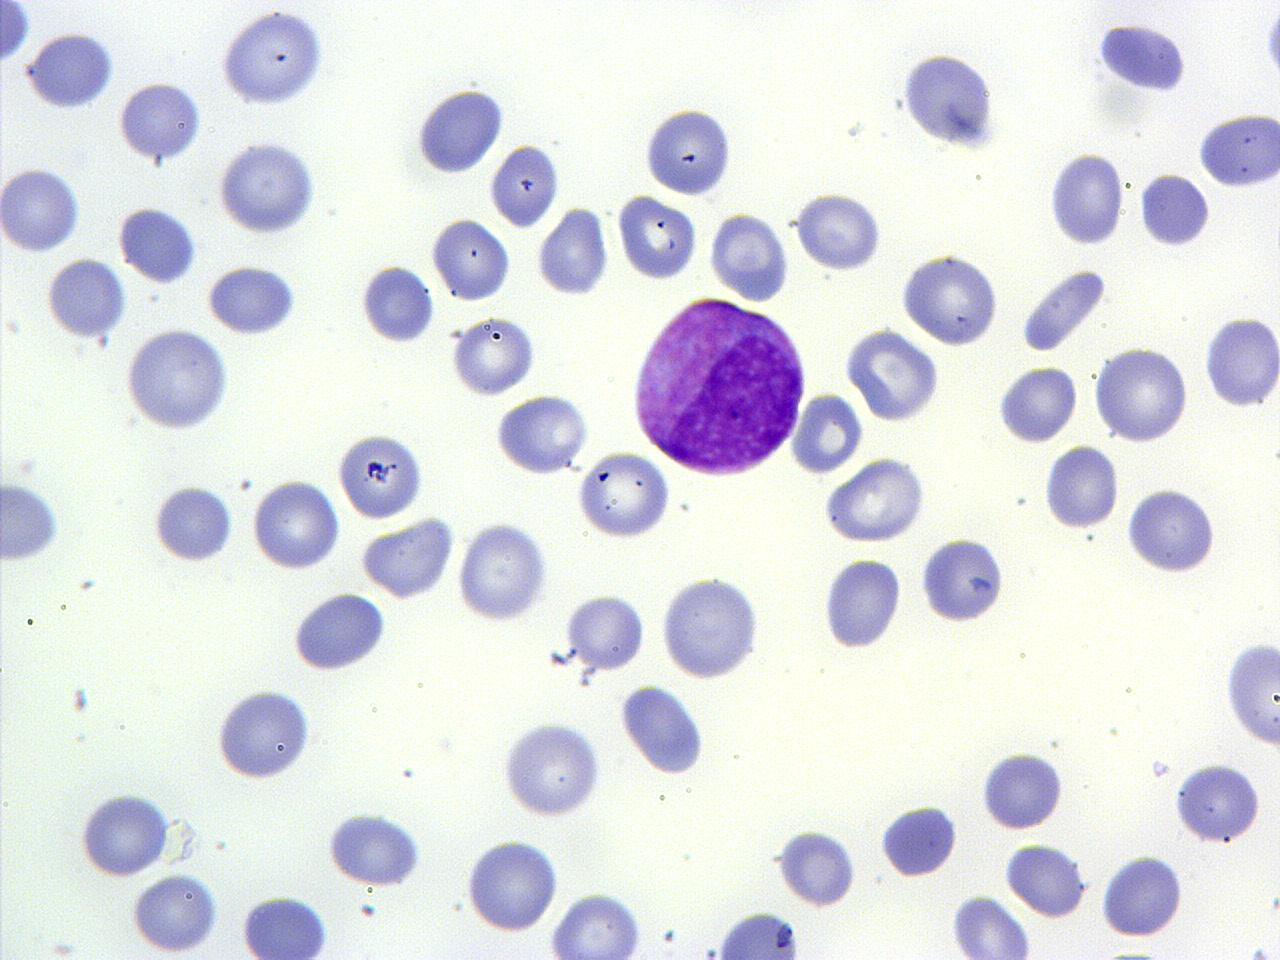Platelets: (1044, 149, 1126, 248), (1091, 18, 1191, 94), (993, 362, 1081, 446), (772, 826, 860, 910), (355, 260, 436, 348), (948, 892, 1034, 960), (0, 0, 30, 70), (1263, 3, 1280, 87), (1149, 758, 1171, 780), (1248, 943, 1274, 960), (703, 945, 718, 959)
RBC: (122, 323, 232, 436), (218, 7, 328, 110), (498, 716, 606, 820), (216, 135, 320, 239), (454, 518, 552, 626), (212, 682, 315, 784), (898, 248, 1001, 350), (1089, 345, 1191, 445), (820, 454, 930, 546), (463, 834, 560, 936), (1123, 480, 1219, 580), (77, 786, 172, 882), (574, 448, 671, 542), (249, 476, 342, 572), (492, 390, 591, 479), (818, 552, 904, 654), (336, 427, 429, 521), (24, 24, 119, 114), (322, 810, 428, 890), (706, 208, 792, 304), (128, 869, 222, 956), (1170, 760, 1266, 845), (790, 188, 886, 272), (446, 314, 539, 400), (1046, 150, 1126, 248), (978, 746, 1068, 833), (1200, 313, 1280, 410), (0, 162, 82, 256), (613, 191, 697, 282), (994, 360, 1080, 446), (536, 202, 610, 300), (772, 826, 858, 910), (1039, 442, 1119, 532), (430, 216, 511, 304), (564, 588, 648, 672), (1002, 839, 1090, 919), (1222, 632, 1280, 753), (790, 388, 864, 477), (546, 891, 644, 958), (238, 890, 331, 960), (488, 141, 562, 228), (1135, 170, 1213, 250), (948, 890, 1034, 960), (0, 0, 32, 69)
WBC: (774, 0, 1280, 455), (625, 292, 813, 482), (123, 322, 235, 436), (658, 570, 767, 682), (216, 4, 331, 110), (453, 515, 554, 627), (214, 134, 322, 238), (498, 716, 606, 820), (898, 46, 1000, 155), (464, 834, 565, 940), (896, 249, 1004, 348), (841, 324, 946, 425), (212, 682, 316, 782), (822, 453, 931, 547), (1122, 480, 1222, 578), (410, 83, 509, 179), (616, 680, 710, 780), (356, 512, 458, 604), (640, 102, 737, 198), (76, 788, 176, 881), (334, 427, 431, 522), (289, 587, 392, 676), (491, 390, 594, 478), (128, 868, 227, 958), (818, 552, 903, 656), (322, 808, 428, 890), (918, 534, 1010, 627), (1018, 262, 1111, 354), (1171, 760, 1267, 846), (23, 29, 120, 114), (115, 76, 206, 166), (1090, 18, 1194, 96), (147, 479, 238, 565), (204, 260, 303, 339), (1099, 852, 1185, 941), (1201, 314, 1279, 410), (114, 201, 203, 285), (774, 823, 858, 911), (1002, 839, 1091, 921), (45, 254, 127, 342), (546, 892, 650, 960), (1041, 443, 1119, 533), (1221, 632, 1279, 752), (358, 258, 436, 347), (1197, 108, 1279, 192), (488, 140, 562, 230), (239, 892, 332, 960), (1136, 167, 1212, 250), (878, 800, 958, 878), (1, 472, 65, 564), (713, 906, 803, 958), (0, 0, 31, 71)
